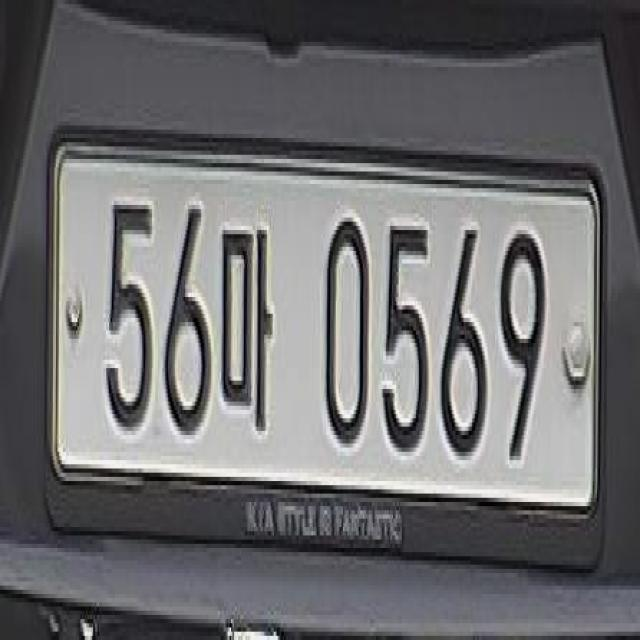illegal_plate: (44, 133, 612, 583)
